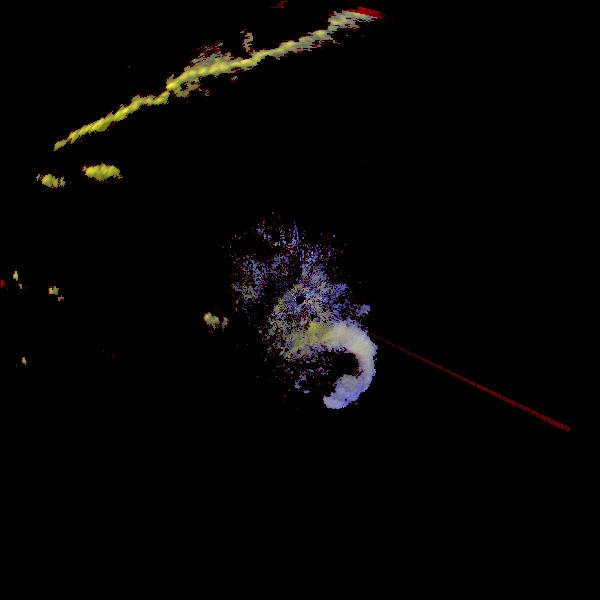roost: (225, 283, 405, 463)
